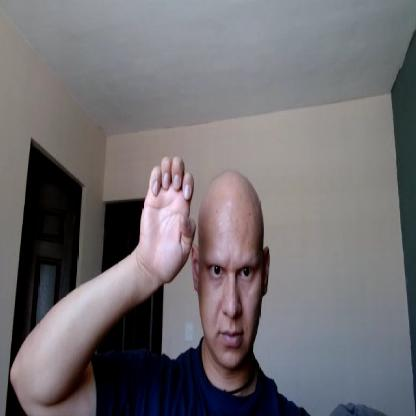E: (141, 154, 198, 283)
